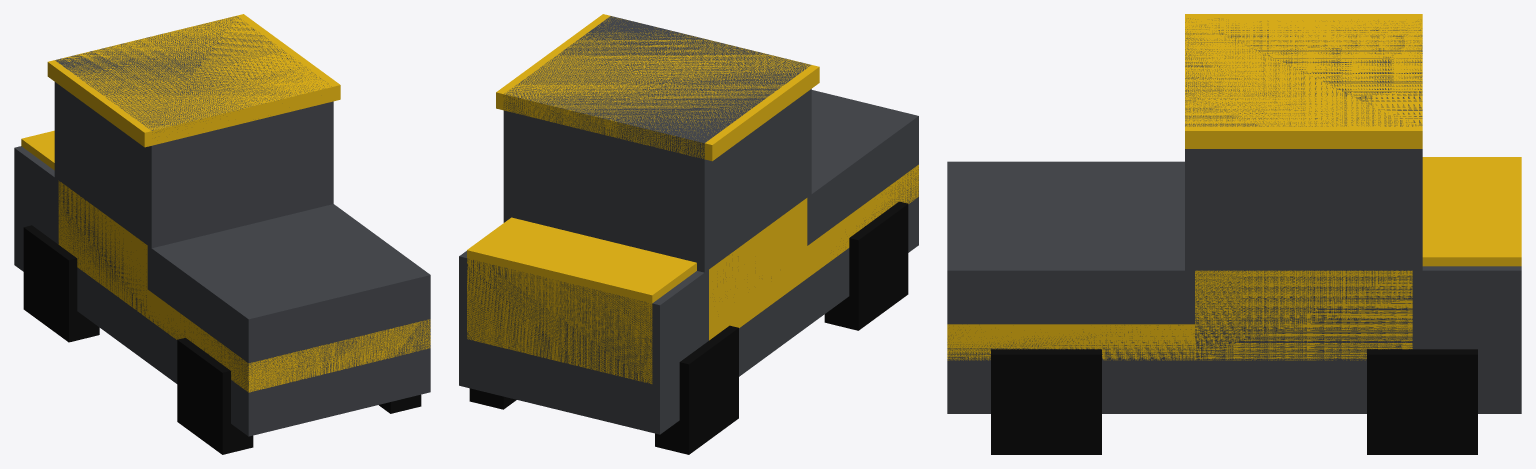
File: bne_gse_tug_yellow.dae
3 renders of one model, left to right at view 1: azimuth 30°, elevation 25°; view 2: azimuth 150°, elevation 25°; view 3: azimuth 270°, elevation 25°, orthographic. The views are drawn at different scales.
Visible parts, largest first — view 1: Colmesh_bne_gse_tug_yellow-1, bne_gse_tug_yellow160, bne_gse_tug_yellow16; view 2: Colmesh_bne_gse_tug_yellow-1, bne_gse_tug_yellow160, bne_gse_tug_yellow16; view 3: Colmesh_bne_gse_tug_yellow-1, bne_gse_tug_yellow160, bne_gse_tug_yellow16.
Part boxes in pixels (x1,y1,x2,y2): Colmesh_bne_gse_tug_yellow-1: [14, 16, 430, 436]; bne_gse_tug_yellow160: [21, 14, 430, 438]; bne_gse_tug_yellow16: [23, 225, 421, 454]; Colmesh_bne_gse_tug_yellow-1: [459, 16, 918, 434]; bne_gse_tug_yellow160: [467, 14, 918, 436]; bne_gse_tug_yellow16: [469, 201, 908, 454]; Colmesh_bne_gse_tug_yellow-1: [947, 18, 1521, 413]; bne_gse_tug_yellow160: [947, 14, 1521, 454]; bne_gse_tug_yellow16: [991, 349, 1477, 454].
Size of the model in its own units: 1.42 by 2.9 by 1.8.
